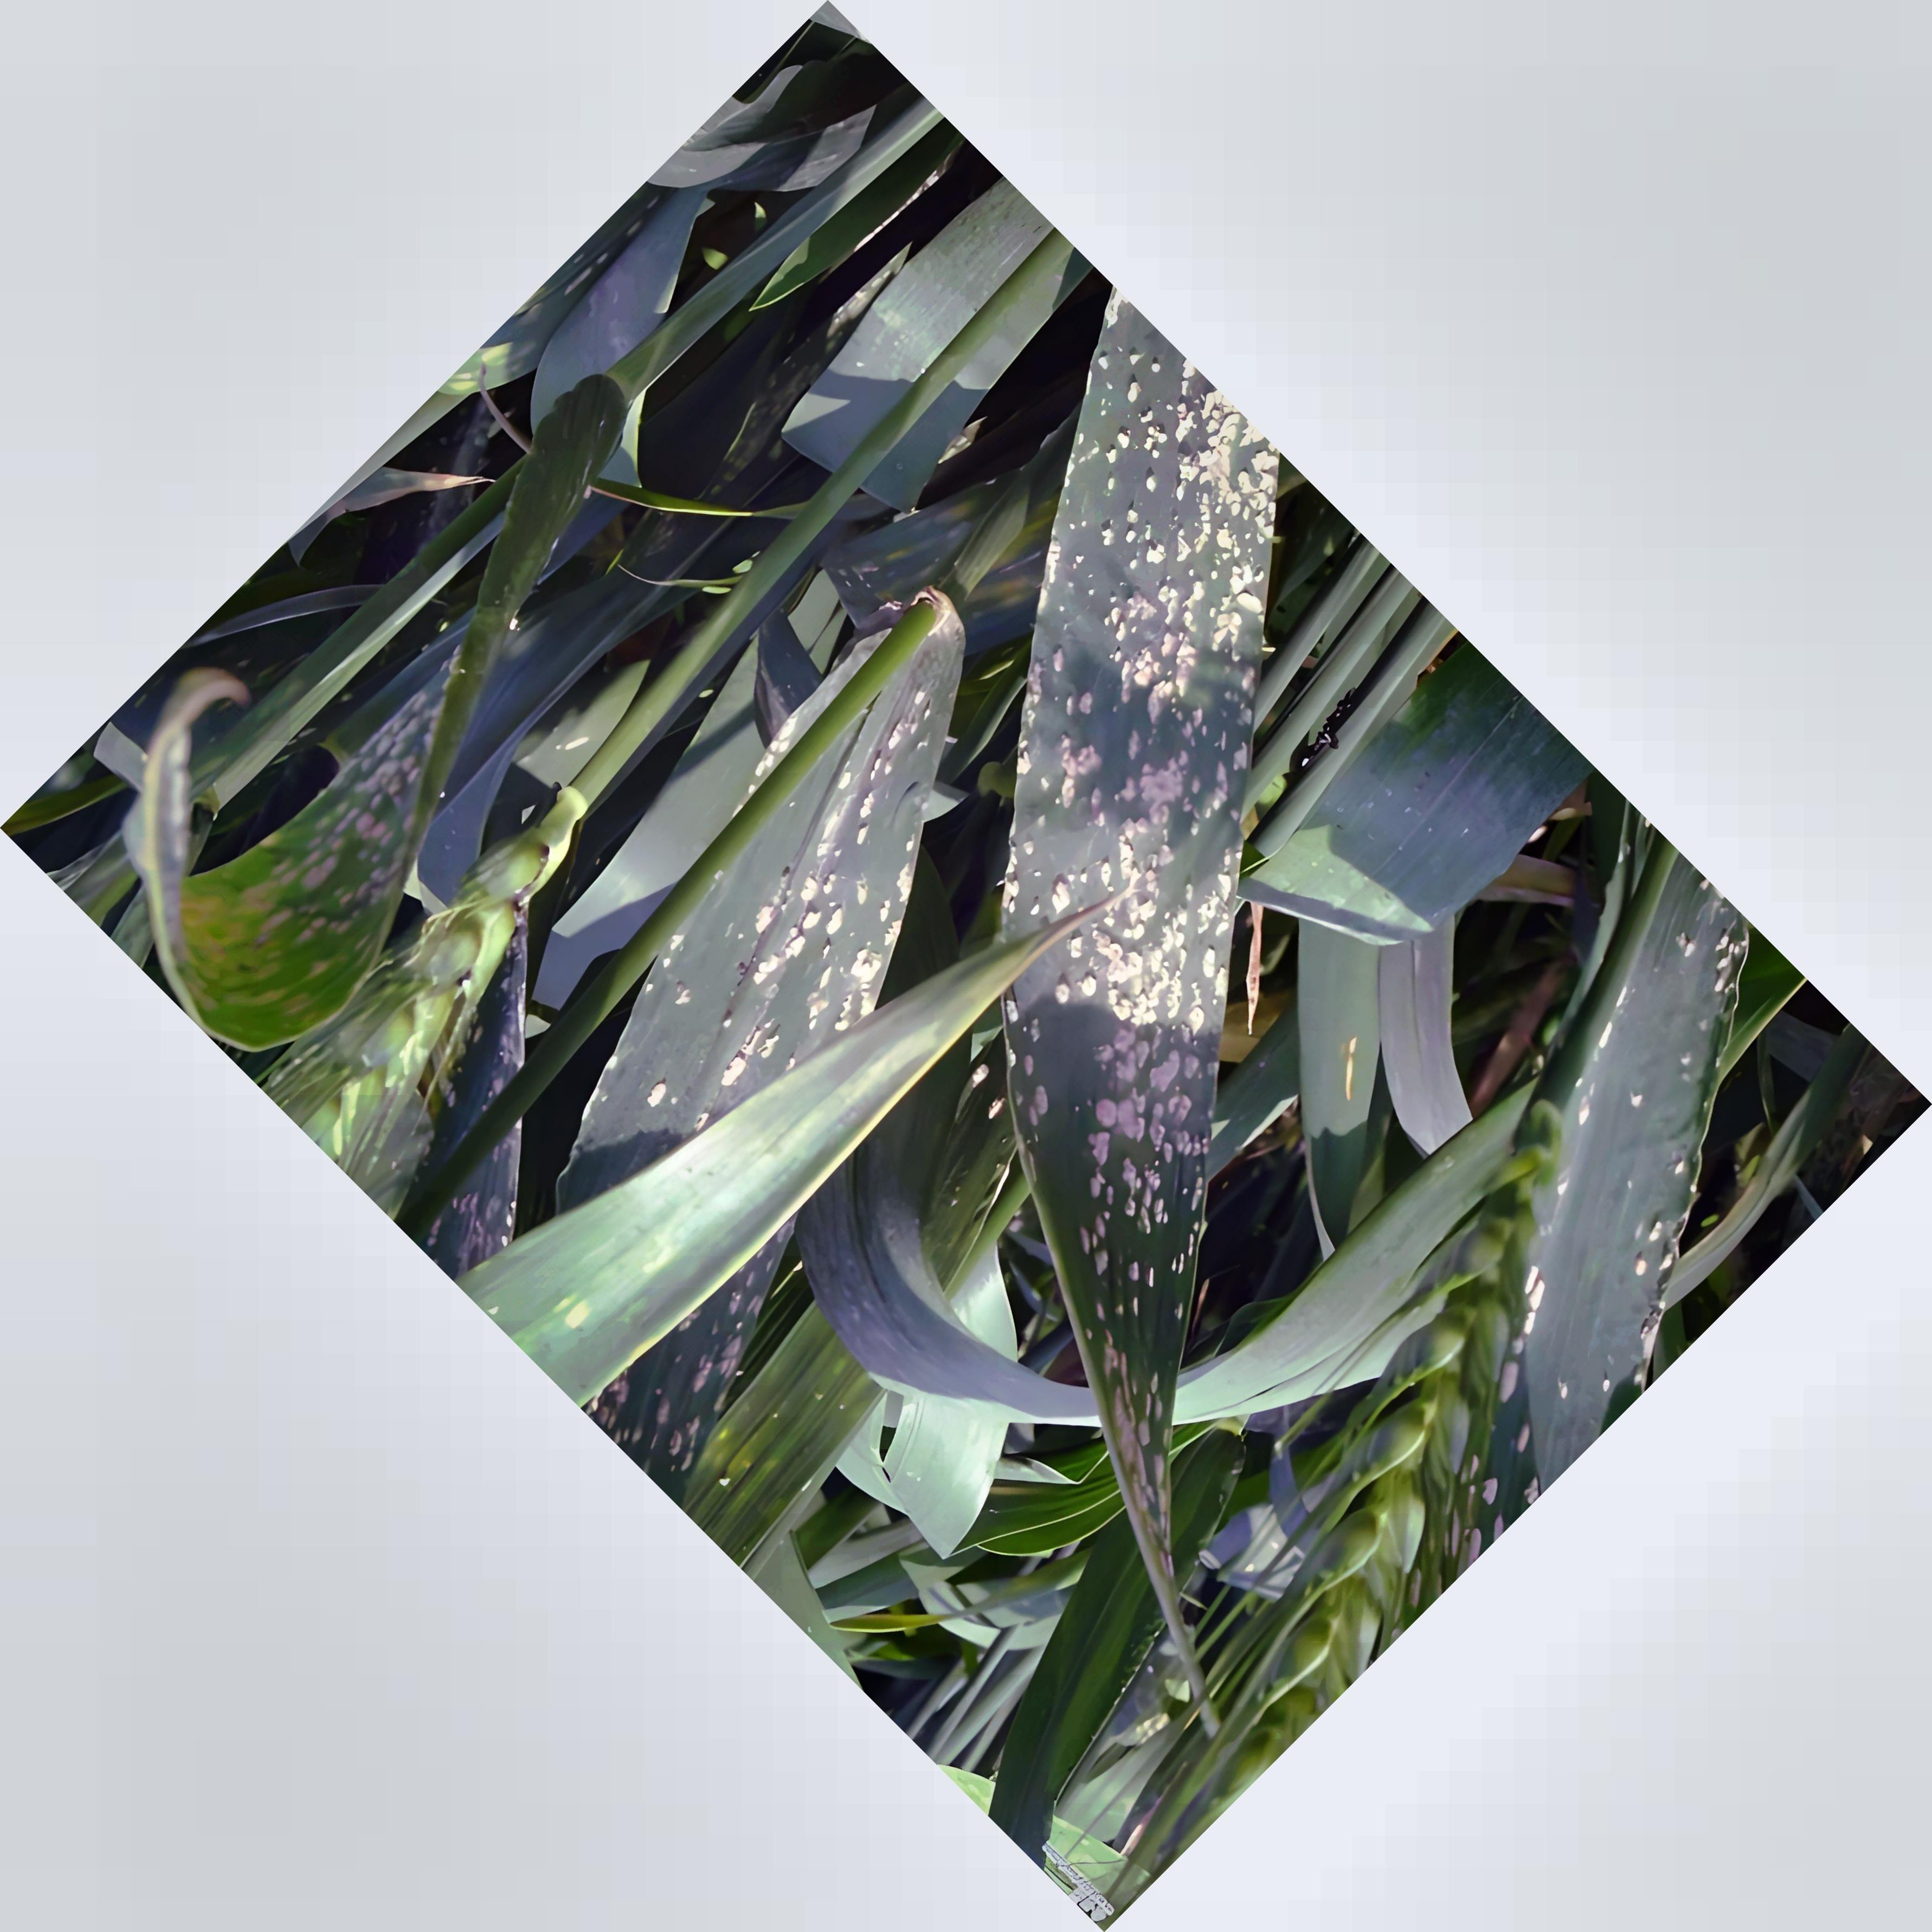Powdery Mildew: (998, 356, 1284, 1283)
